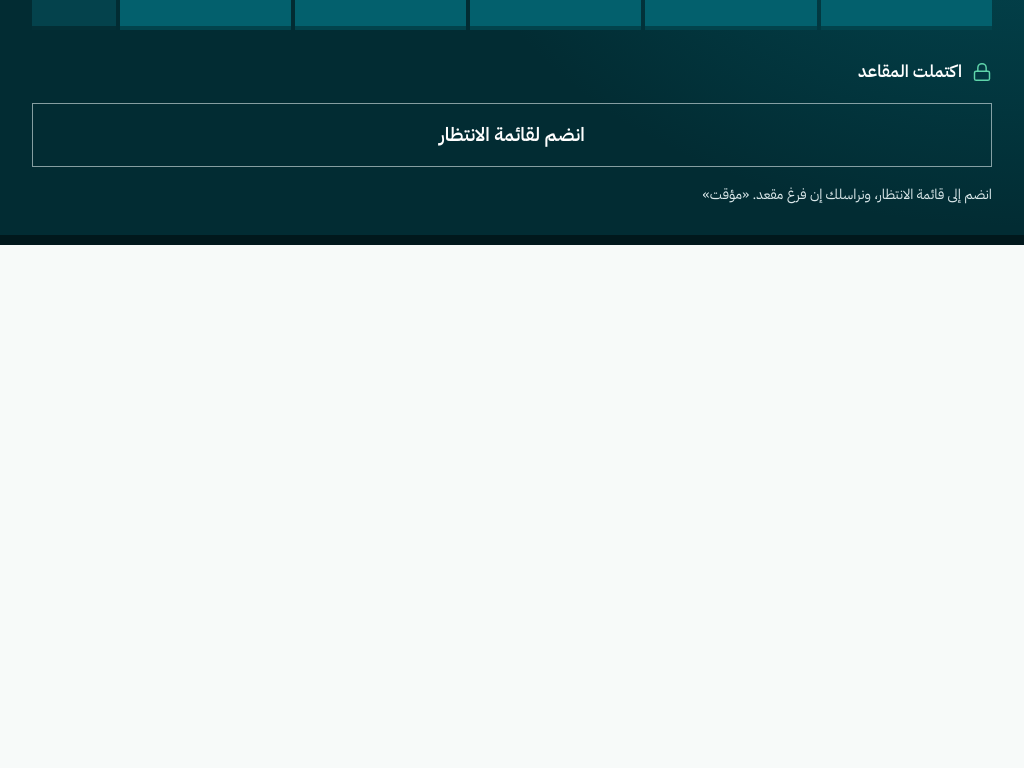
Scenario: RegisterBlock, signed in › joining the waitlist shows the position; leaving goes back to full
The image size is (1024, 768).
Click the button "انضم لقائمة الانتظار".
click(512, 135)  # box [32,103,992,167]
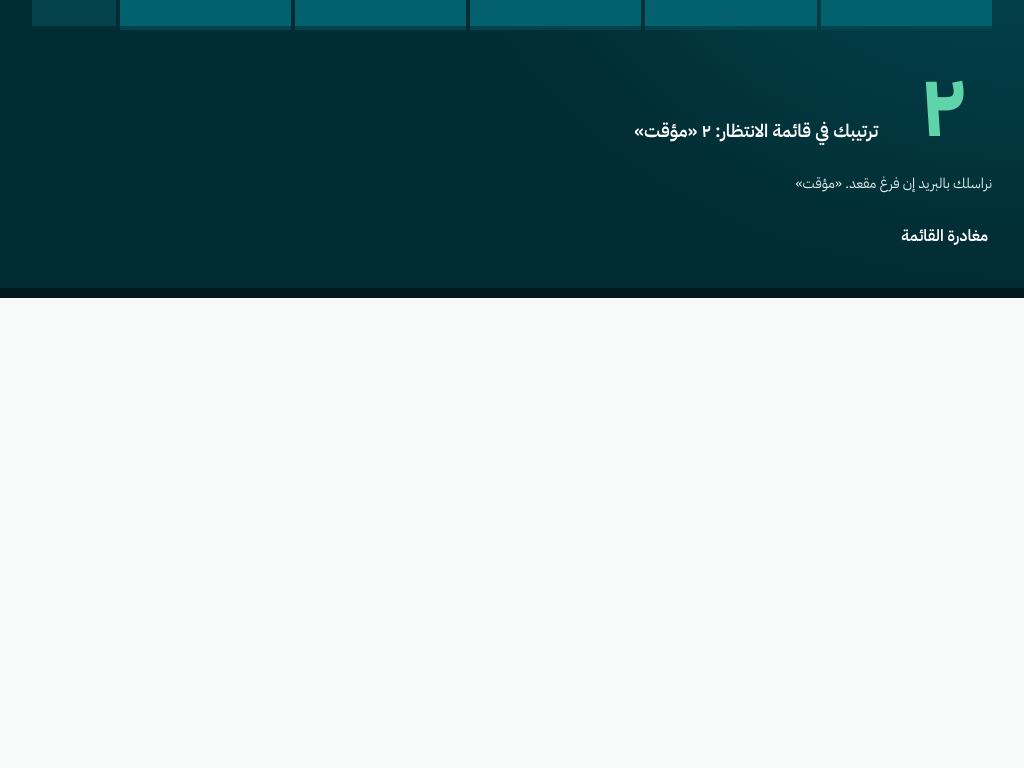
Result: the button "مغادرة القائمة" is shown
Click the button "مغادرة القائمة".
click(945, 238)  # box [897,216,992,260]
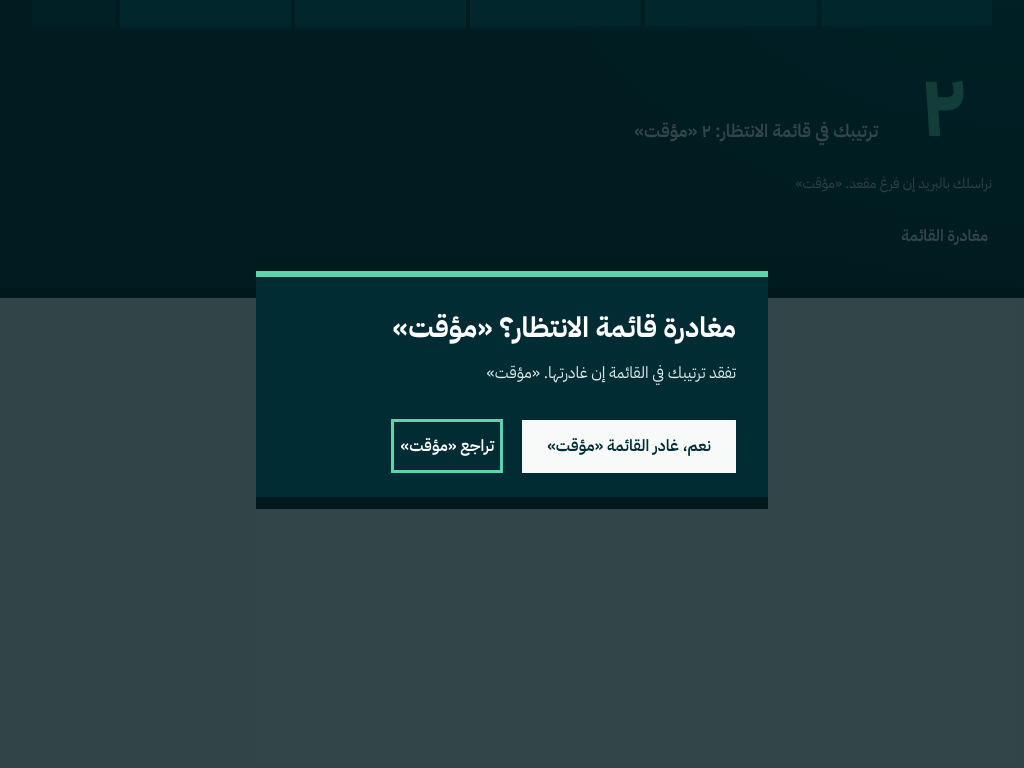
Click the button "نعم، غادر القائمة «مؤقت»".
click(629, 446)  # box [522,420,736,473]
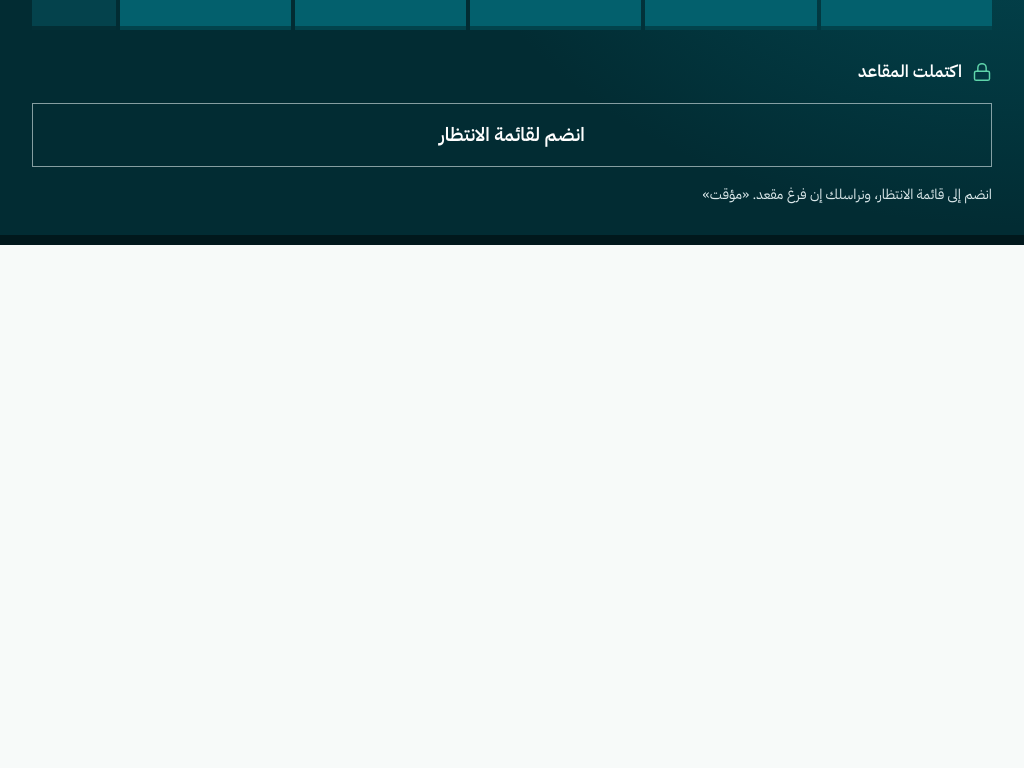
Result: the button "انضم لقائمة الانتظار" is shown at [32,103,992,167]
